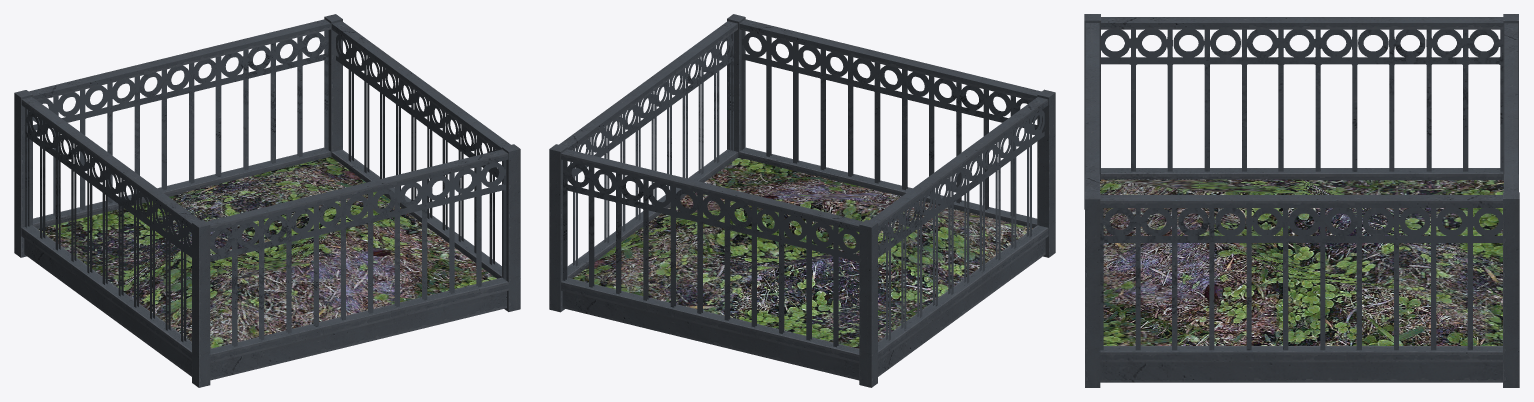
The model's file is Flowerbed_03.fbx.
3 renders of one model, left to right at view 1: azimuth 30°, elevation 25°; view 2: azimuth 150°, elevation 25°; view 3: azimuth 270°, elevation 25°, orthographic. The views are drawn at different scales.
Parts seen in each view (by area): view 1: Flowerbed_03; view 2: Flowerbed_03; view 3: Flowerbed_03.
Part boxes in pixels (<box>): Flowerbed_03: <box>14,14,520,387</box>; Flowerbed_03: <box>549,14,1055,387</box>; Flowerbed_03: <box>1084,14,1519,387</box>.
Bounding box in the file's own units: 61.94 × 29.45 × 61.5.
